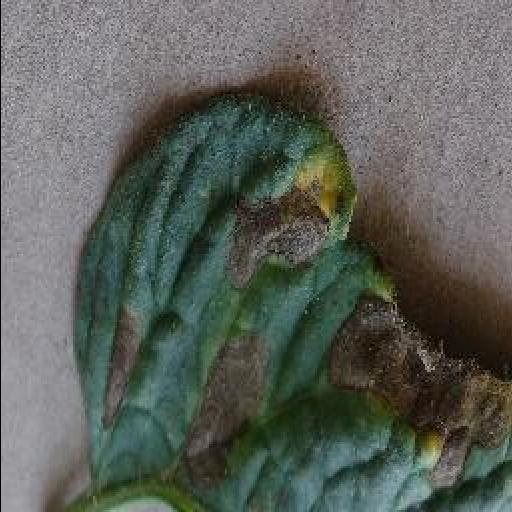disease_tomato: (66, 94, 510, 512)
